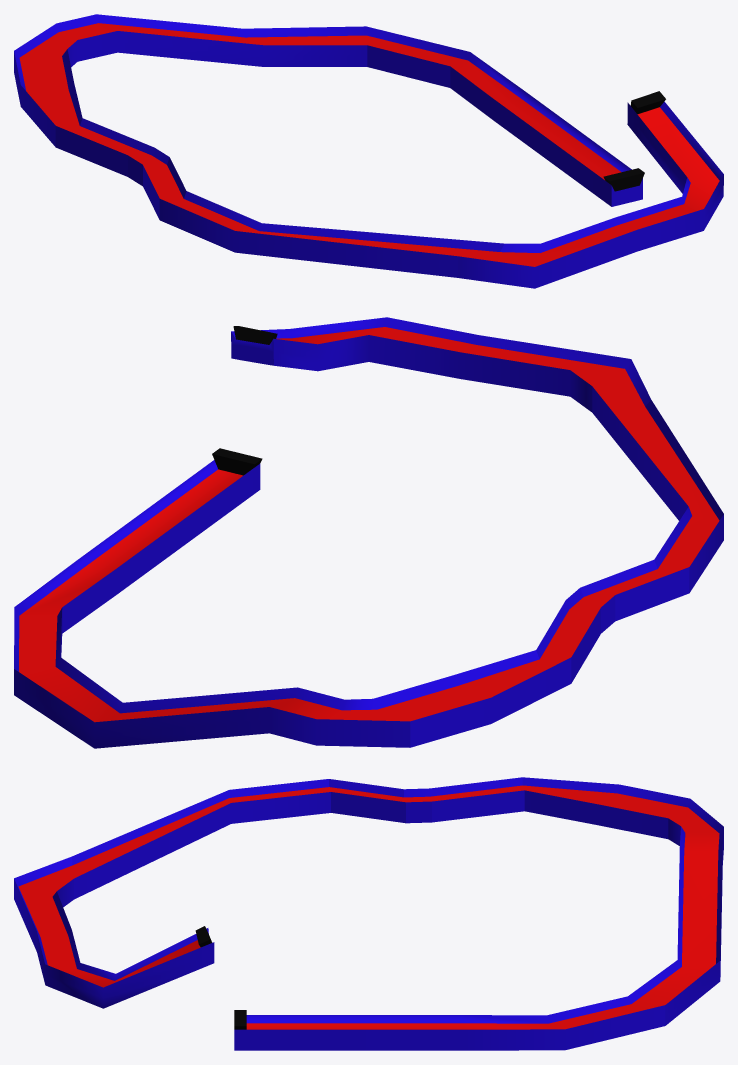
The model's file is Track2.fbx.
3 views of the same model, one above another, from view 1: azimuth 30°, elevation 25°; view 2: azimuth 150°, elevation 25°; view 3: azimuth 270°, elevation 25° (orthographic). The views are drawn at different scales.
Parts seen in each view (by area): view 1: pCube1; view 2: pCube1; view 3: pCube1.
Boxes of the visible parts, x1,y1,x2,y2 form: pCube1: (14,14,723,288); pCube1: (14,317,723,748); pCube1: (14,777,723,1050).
Bounding box in the file's own units: 42.2 × 10.47 × 59.91.
